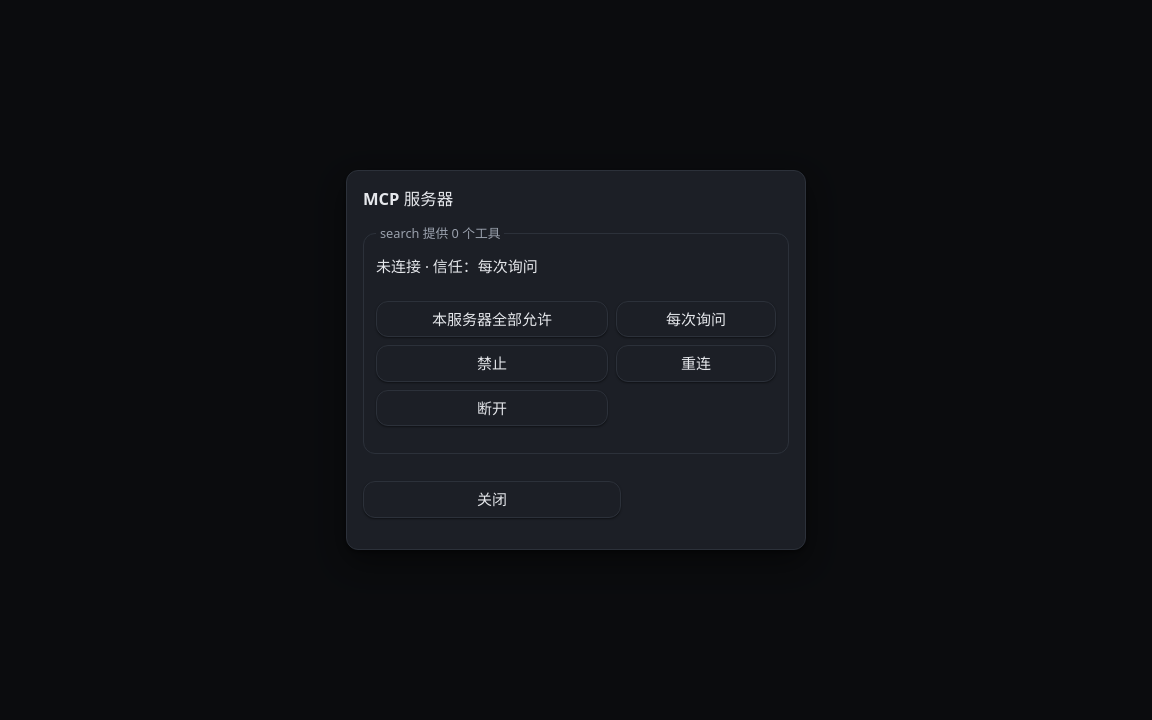
McpPanel › re-reads the server list after a reconnect instead of keeping a stale count
Check: the text "search 提供 0 个工具" is shown, box [376, 224, 504, 243]
Click the button "重连". click: click(696, 363)
box: [616, 345, 776, 382]
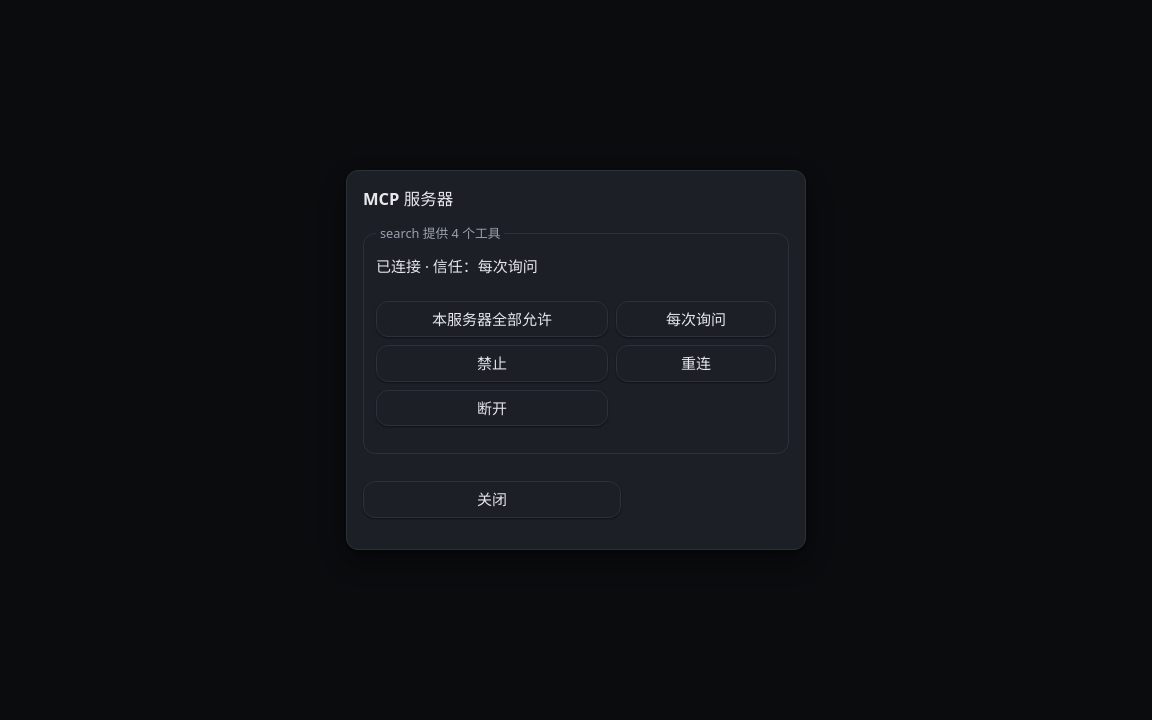
Check: the text "search 提供 4 个工具" is shown, box [376, 224, 504, 243]
